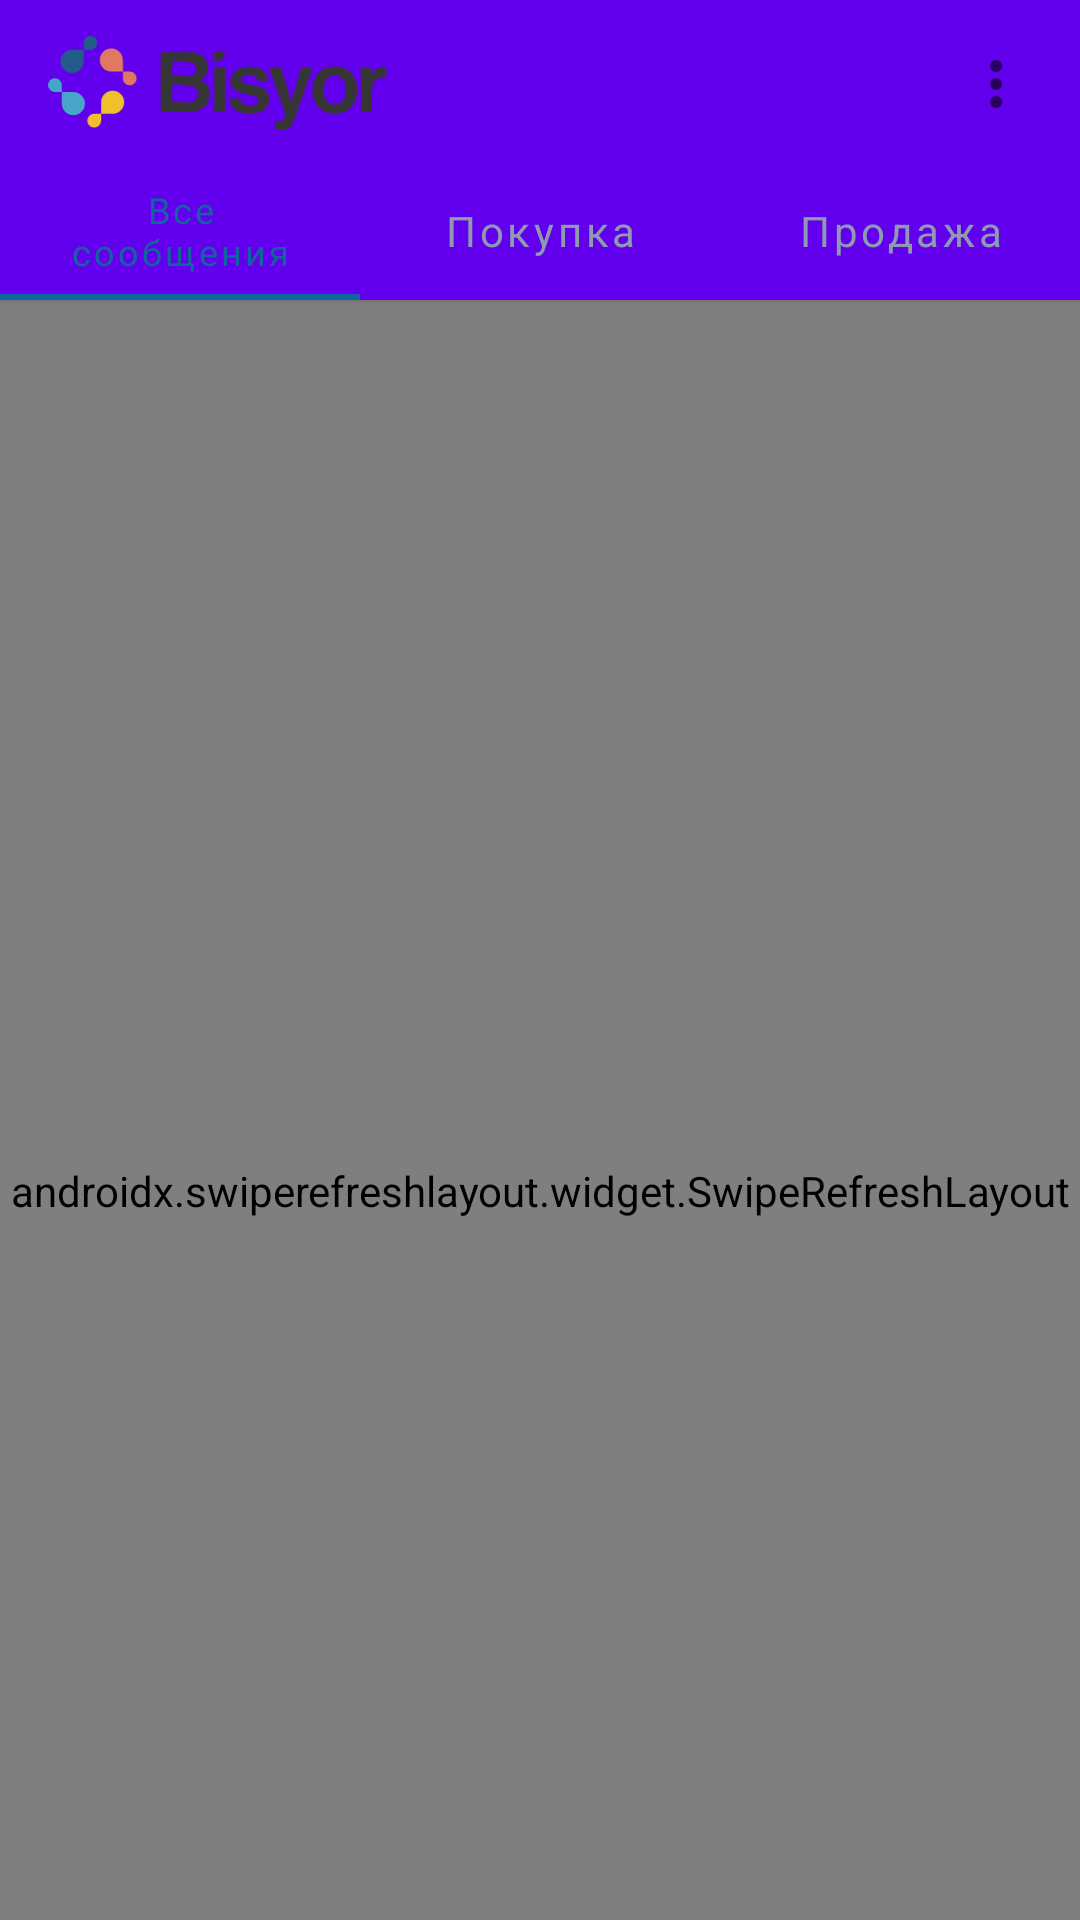

Screen size 1080x1920. Icon name, then its center in pixels as point (x, y):
vicon more vert: point (996, 84)
